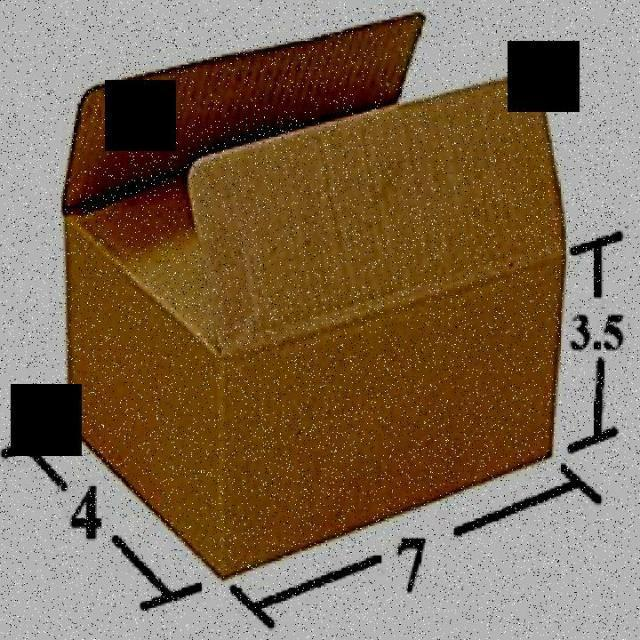box: (58, 13, 568, 584)
